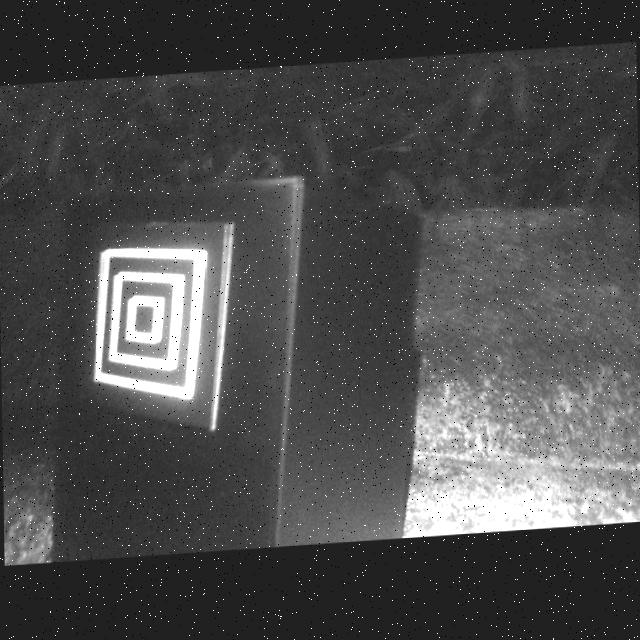BULLSEYE: (96, 250, 205, 400)
